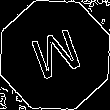M_S: (25, 23, 85, 87)
